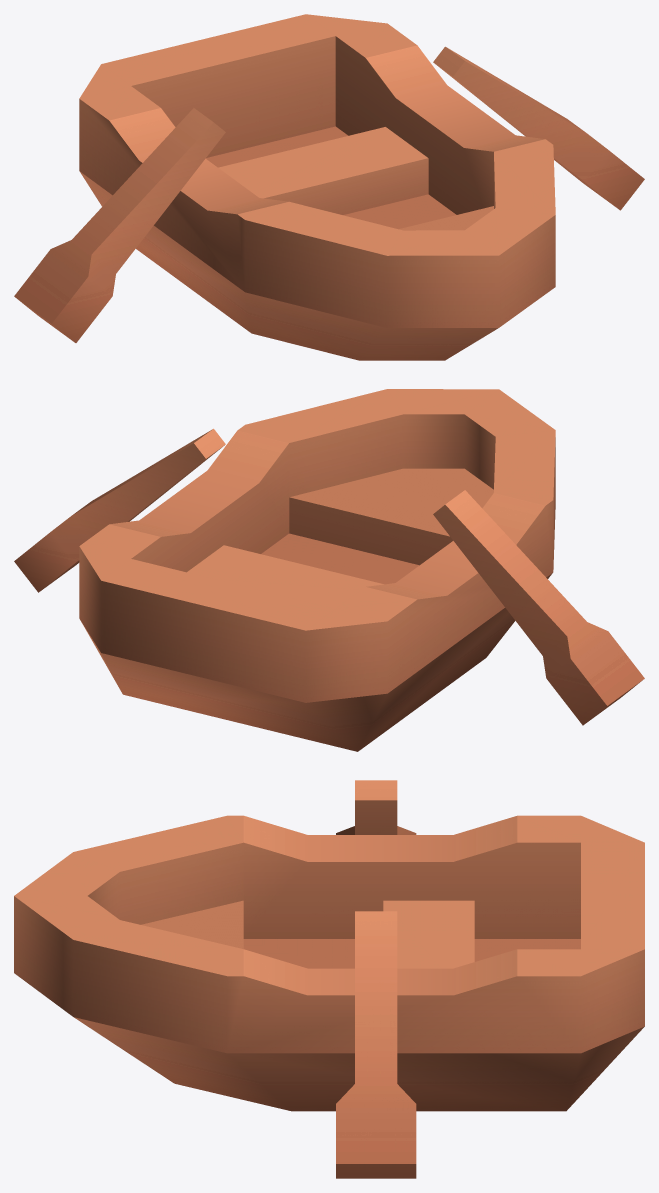
File: boat-row-small-transformed-transformed.glb
The picture shows the model from 3 angles, top to bottom: view 1: azimuth 30°, elevation 25°; view 2: azimuth 150°, elevation 25°; view 3: azimuth 270°, elevation 25°; orthographic projection. The views are drawn at different scales.
Parts seen in each view (by area): view 1: boat-row-small, paddles; view 2: boat-row-small, paddles; view 3: boat-row-small, paddles.
Part boxes in pixels (x1,y1,x2,y2): boat-row-small: (79, 14, 555, 360); paddles: (14, 46, 644, 342); boat-row-small: (79, 389, 555, 751); paddles: (14, 428, 644, 725); boat-row-small: (14, 815, 644, 1111); paddles: (336, 780, 416, 1178).
Size of the model in its own units: 2.75 by 0.8478 by 2.37.
Materials: 1 (1 with a texture image).
